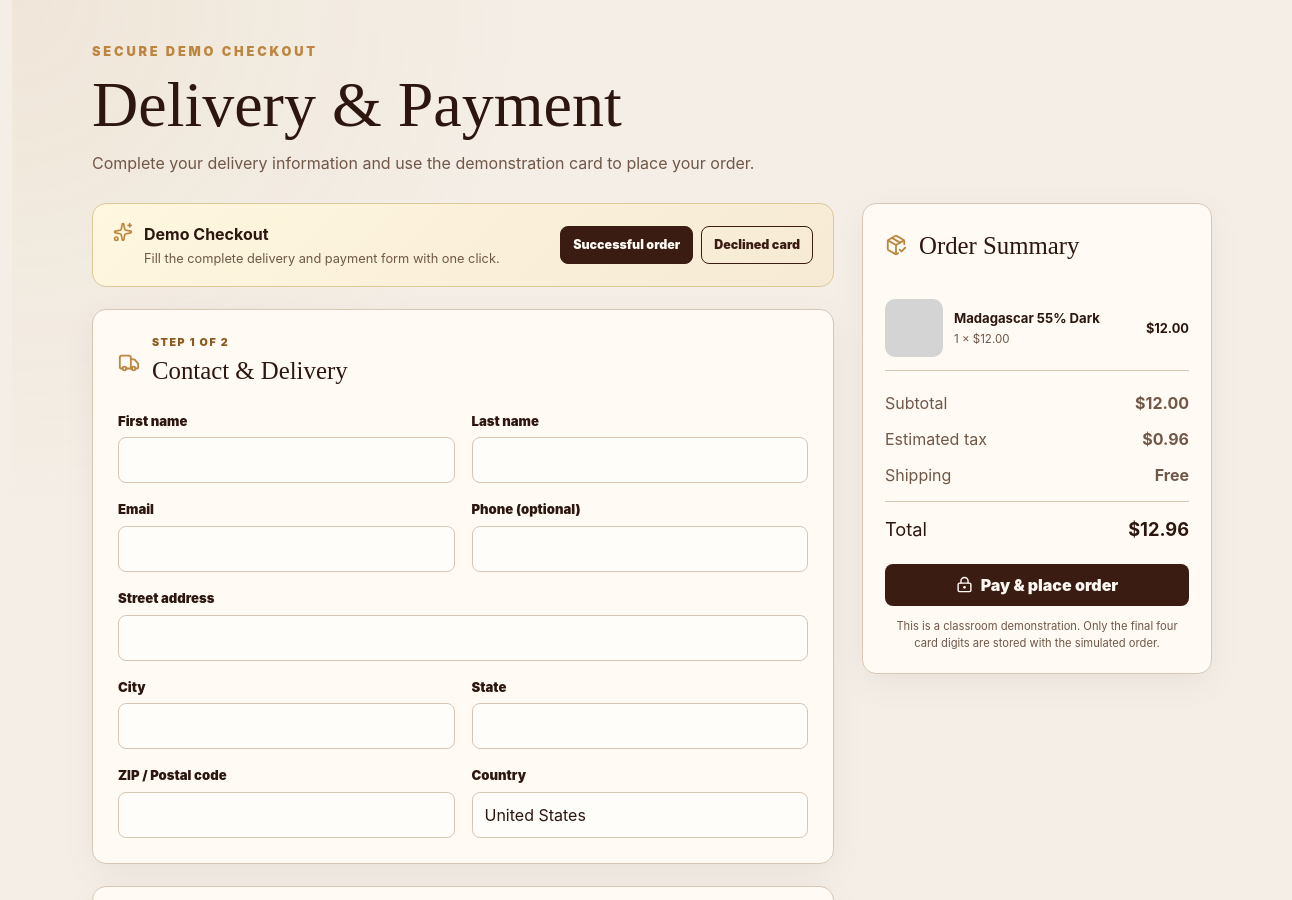
Test: duplicate submissions save one order and clear cart only on success
The width and height of the screenshot is (1292, 900).
Click the button "Successful order" at point(627, 245), box 560,226 -> 693,264
(page scrolled)
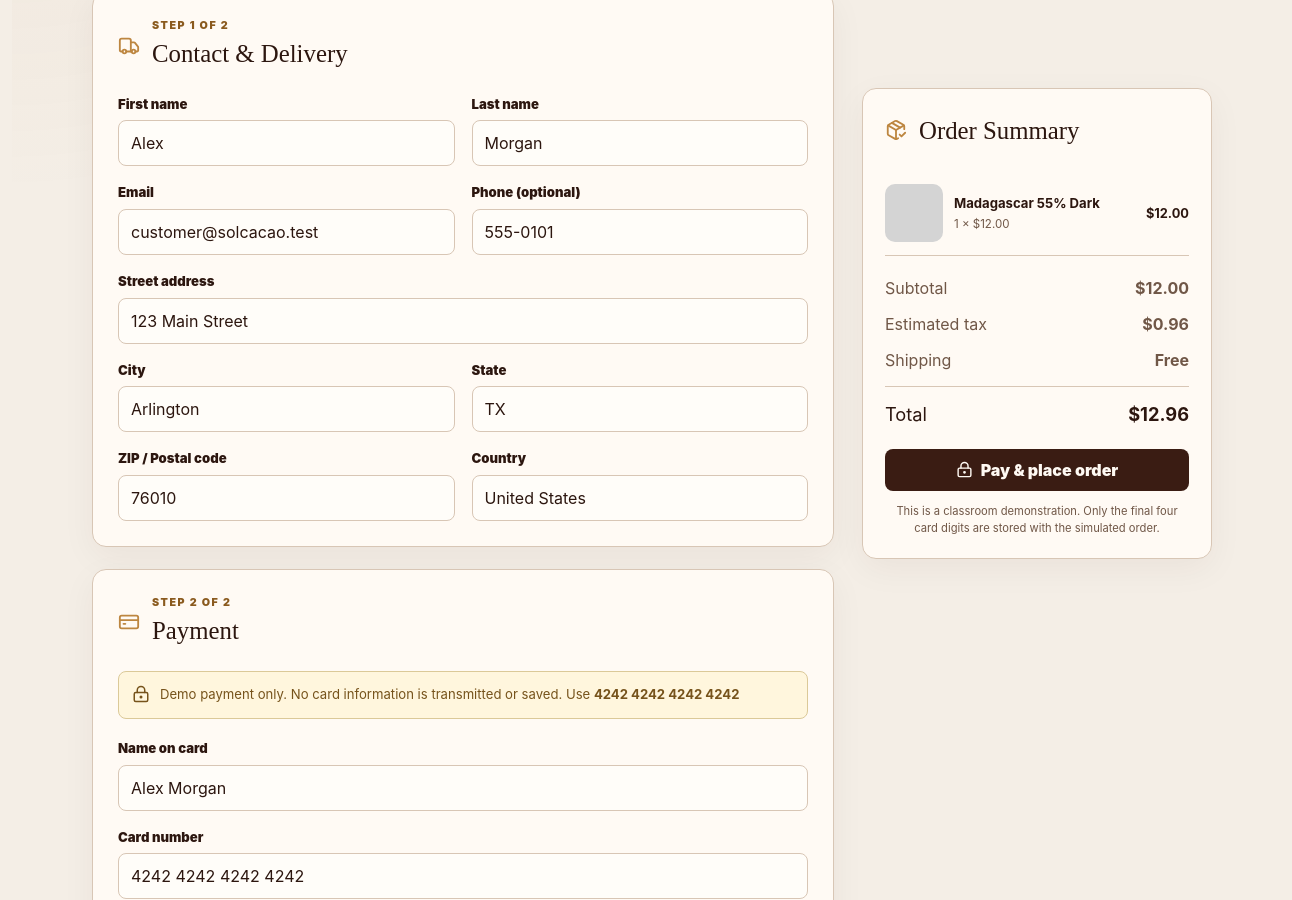
Submit the form named "Pay & place order"
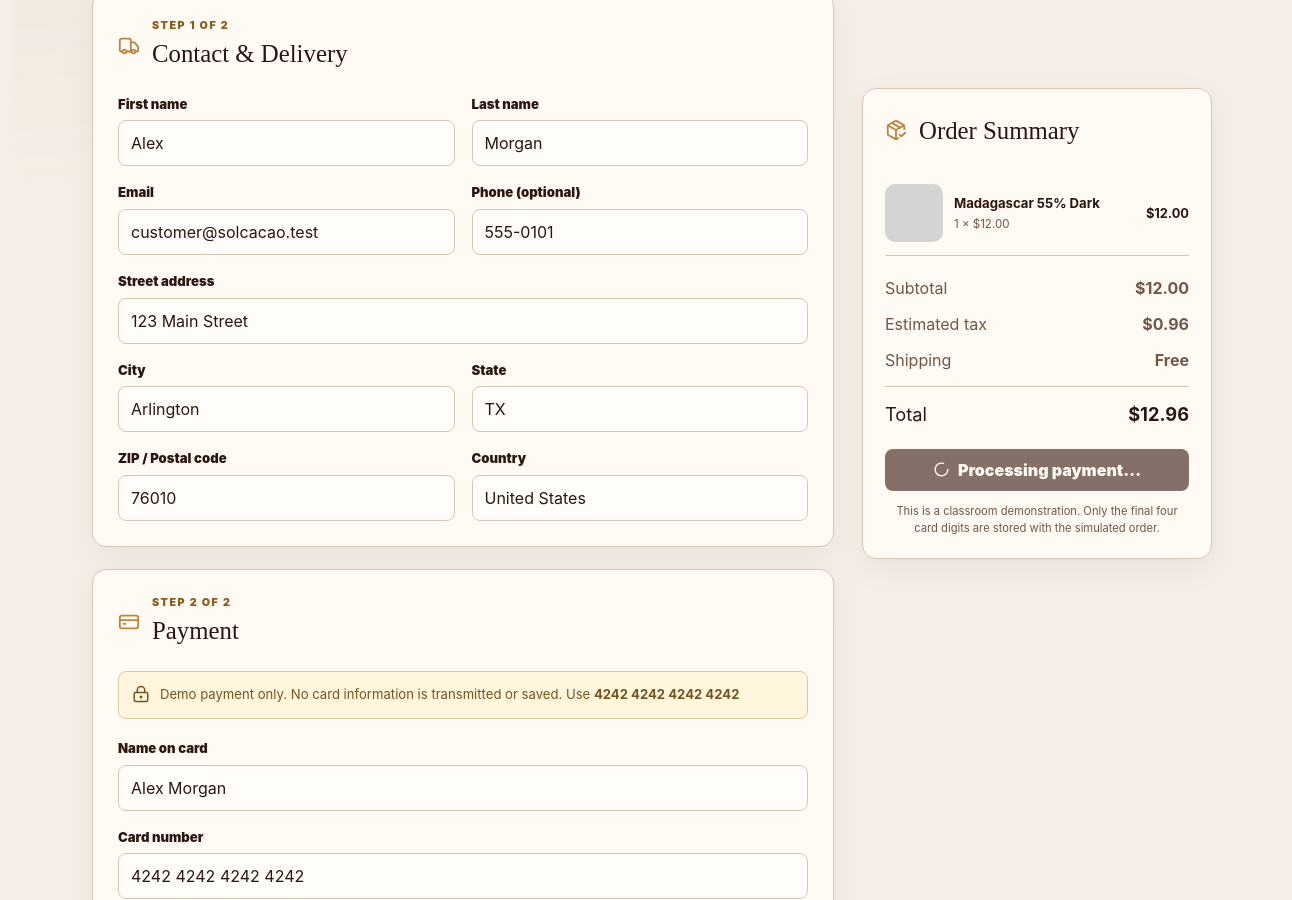
Submit the form named "Pay & place order"
(page scrolled)
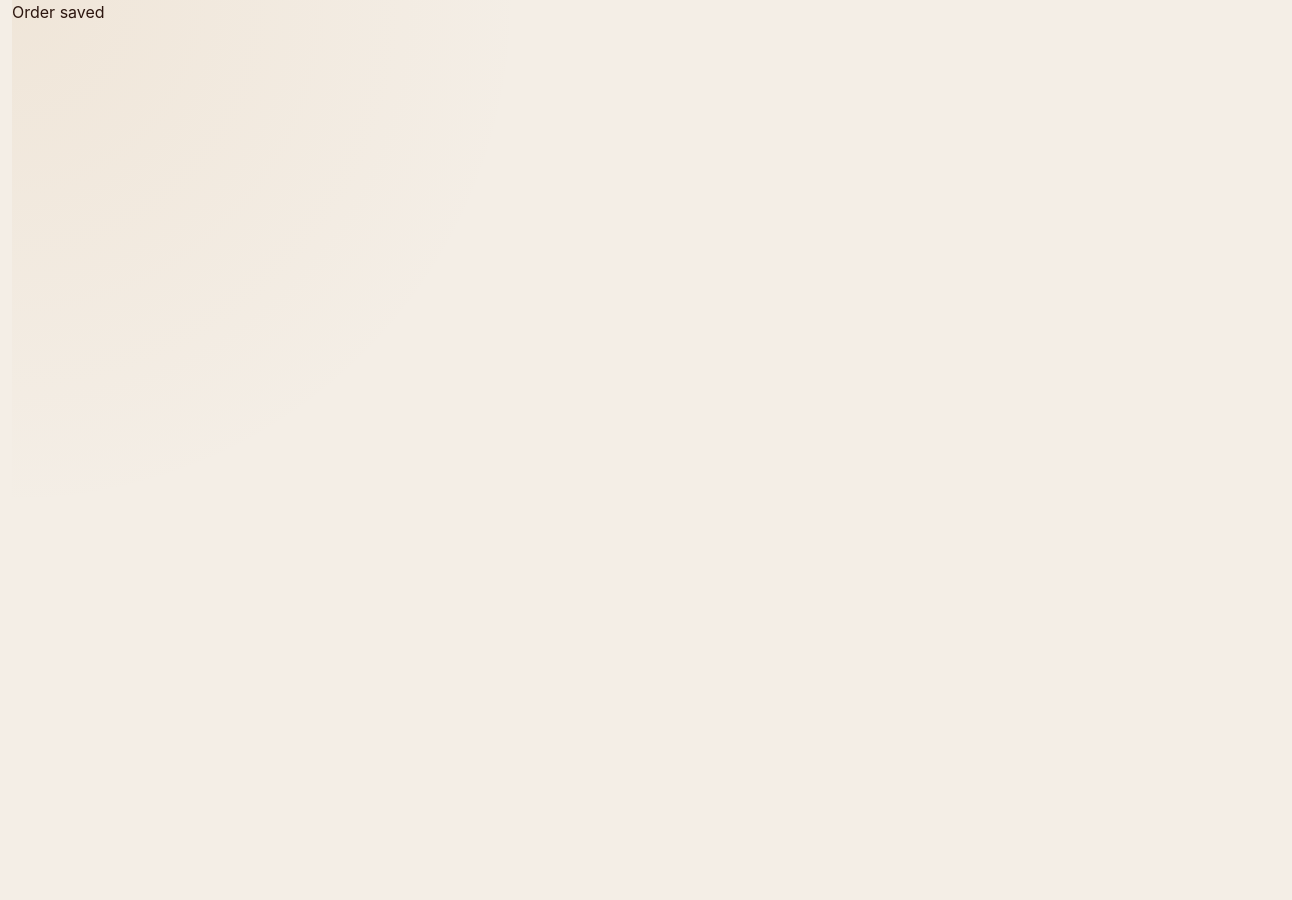
Expected: the heading "Order saved" is shown, 12,2 -> 105,22
